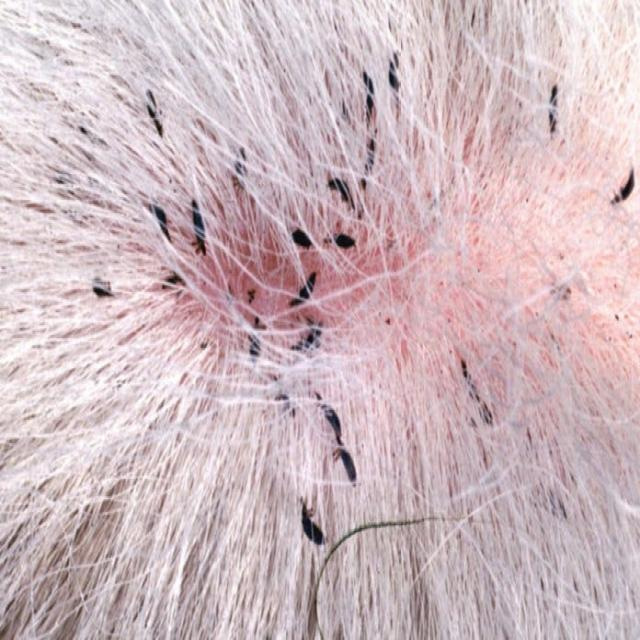di ung bo chet: (56, 0, 640, 587)
